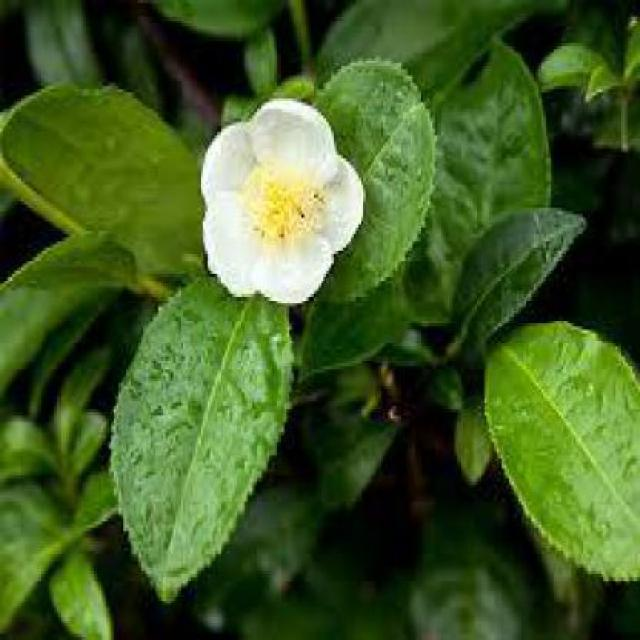flower: (204, 97, 364, 301)
